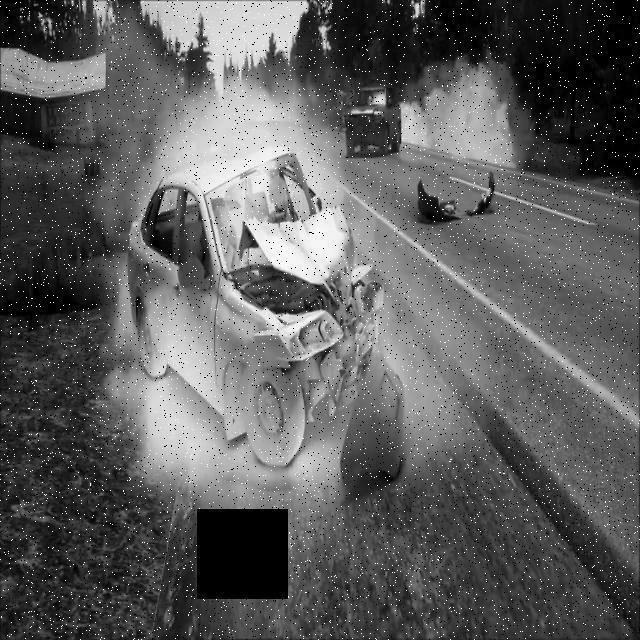accident: (125, 147, 386, 470)
